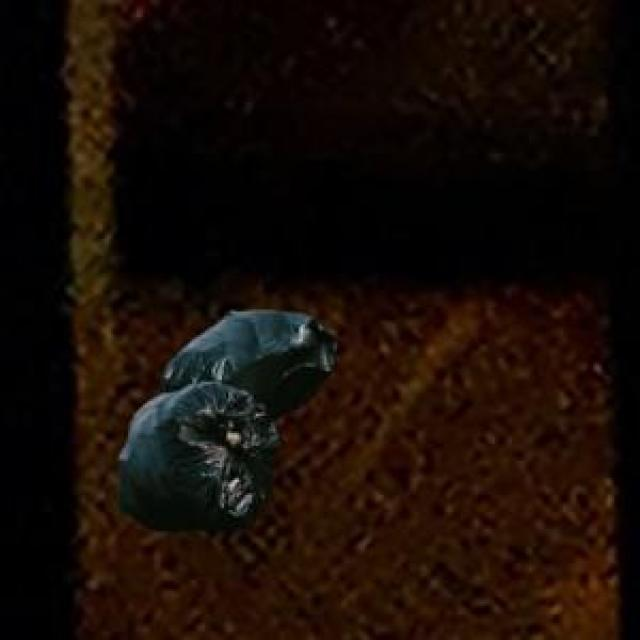Trashbag: (114, 384, 289, 520), (161, 315, 350, 401)
